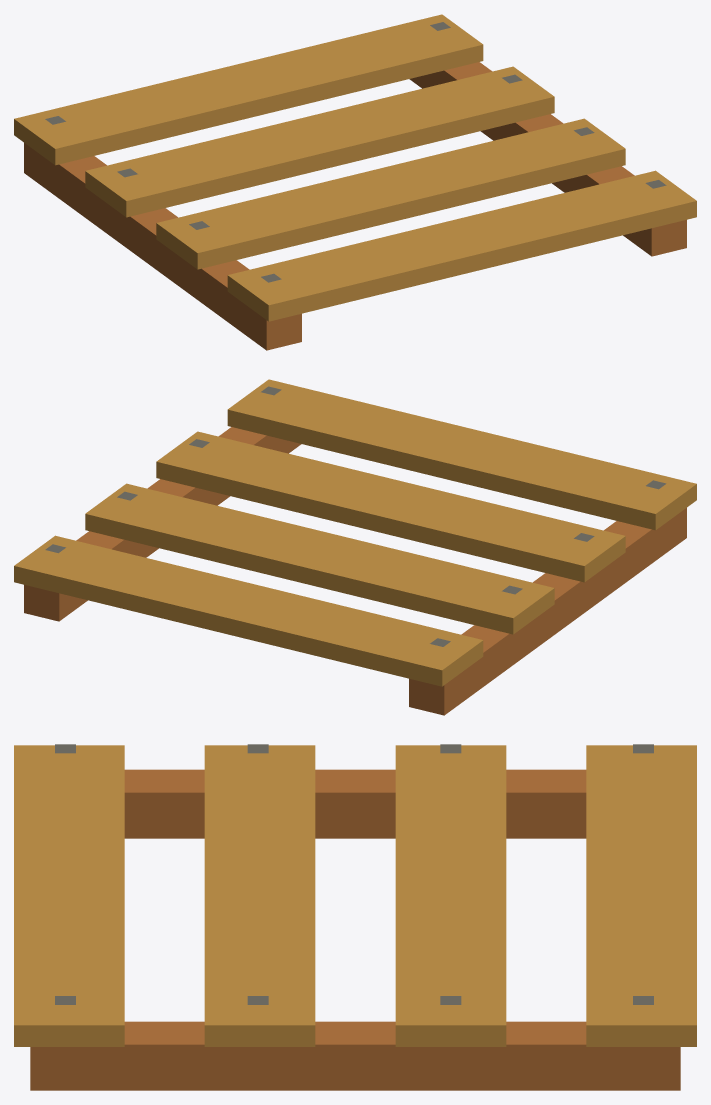
File: Palette.FBX
3 renders of one model, top to bottom at view 1: azimuth 30°, elevation 25°; view 2: azimuth 150°, elevation 25°; view 3: azimuth 270°, elevation 25°, orthographic. The views are drawn at different scales.
Parts seen in each view (by area): view 1: Box004; view 2: Box004; view 3: Box004.
Part boxes in pixels (x1=…): Box004: x1=14, y1=14, x2=696, y2=350; Box004: x1=14, y1=379, x2=696, y2=715; Box004: x1=14, y1=744, x2=696, y2=1090.
Bounding box in the file's own units: 226 × 29.54 × 233.
